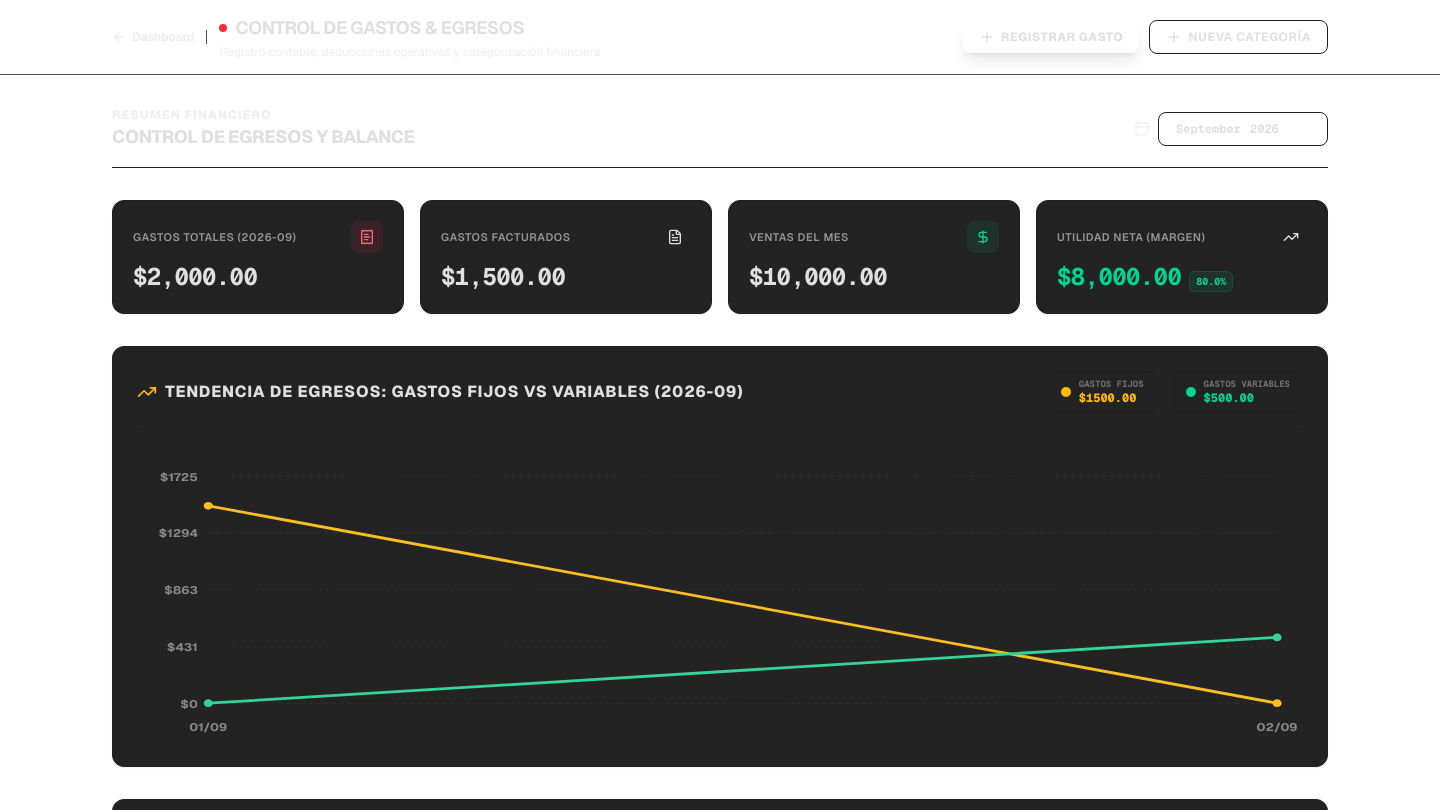
Test case: GastosContent Component › renders full dashboard and opens/closes modals on user clicks
Expected: the text "Control de Gastos & Egresos" is shown, [236,14,524,42]
# Test opening and closing Expense Modal
Click the button "Registrar Gasto". click: click(1051, 37)
box: [963,21,1139,53]
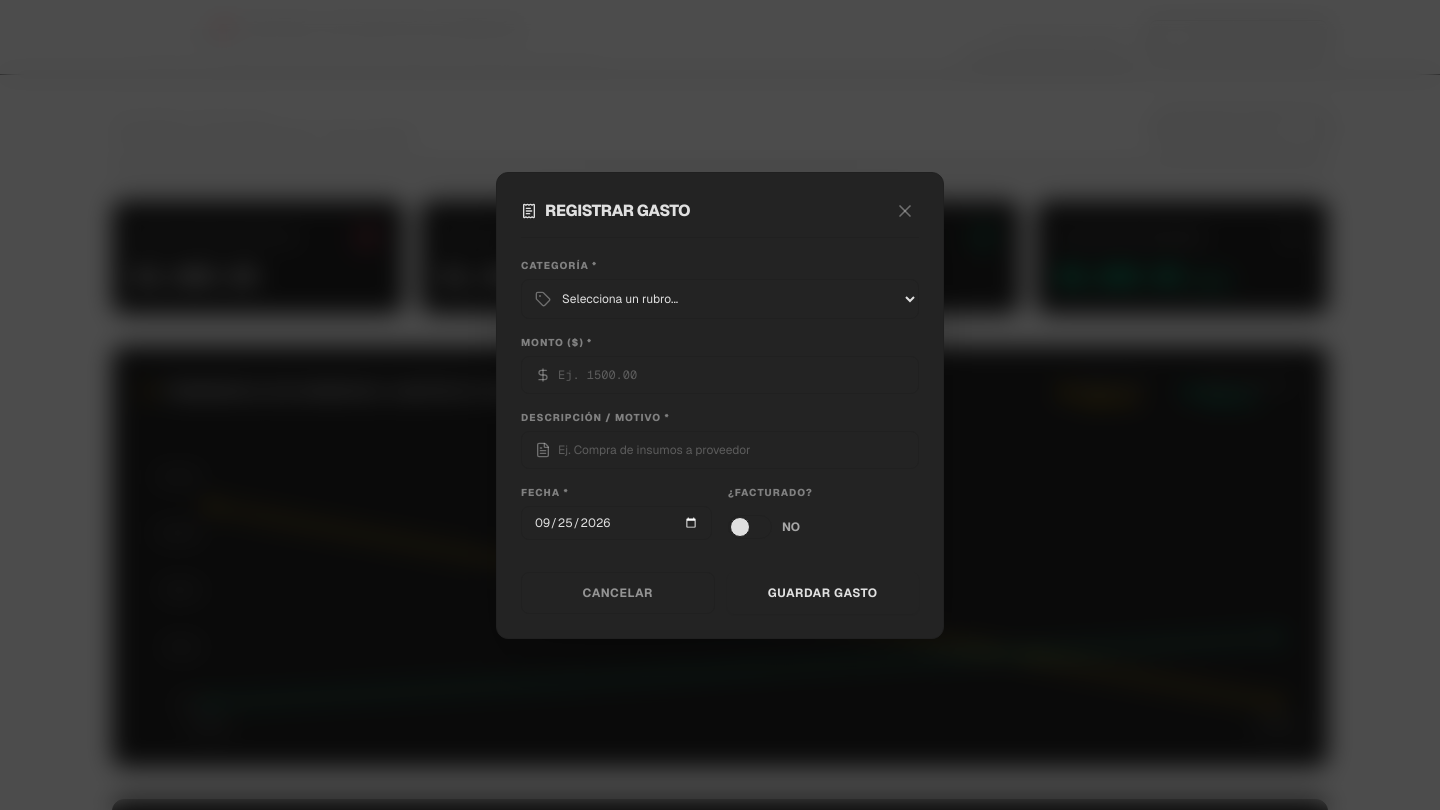
Result: the heading "Registrar Gasto" is shown at [521,198,690,222]
Click the button named "Cerrar modal de gasto". click: click(905, 210)
box: [891,196,919,224]
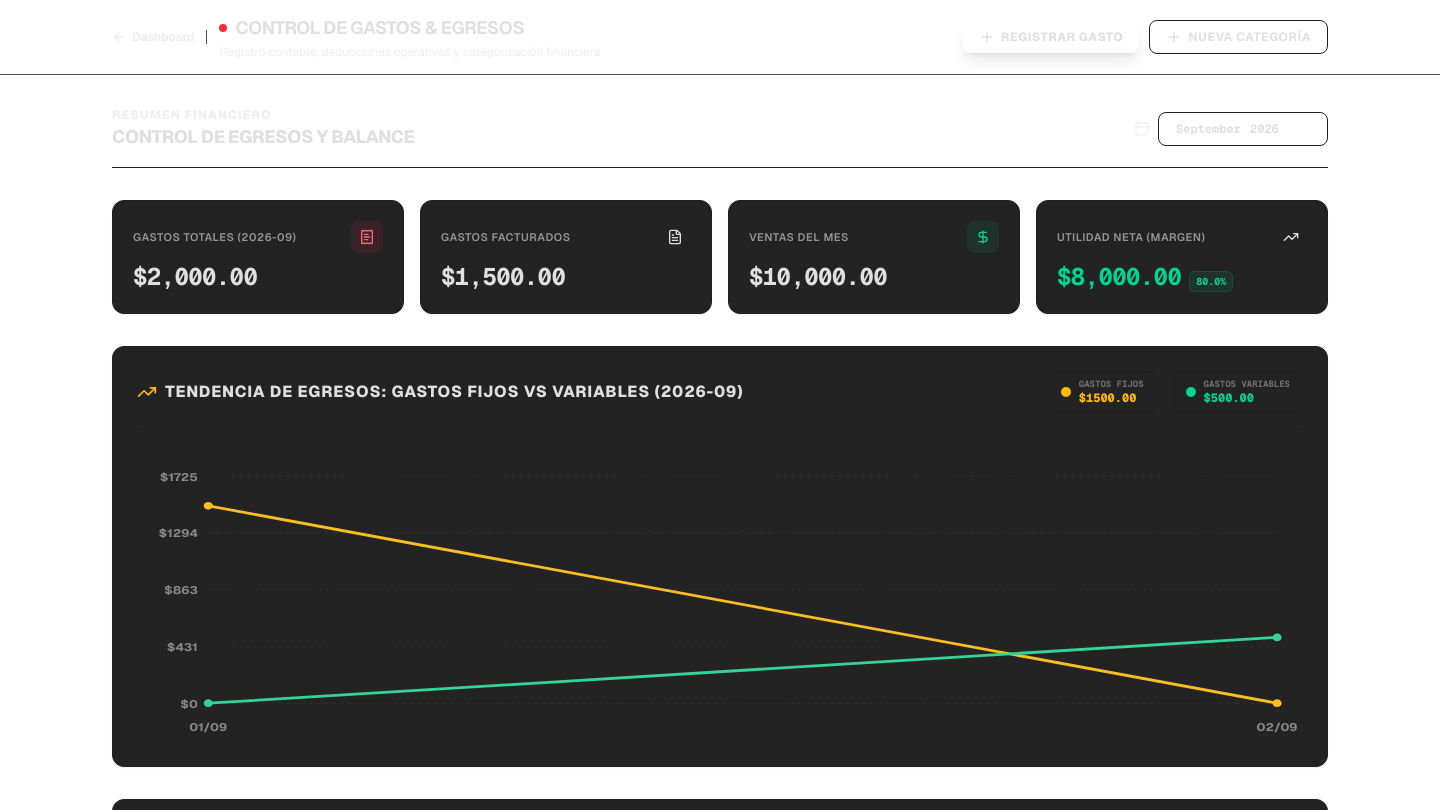
Click the button "Nueva Categoría". click: click(1239, 37)
box: [1149,20,1328,54]
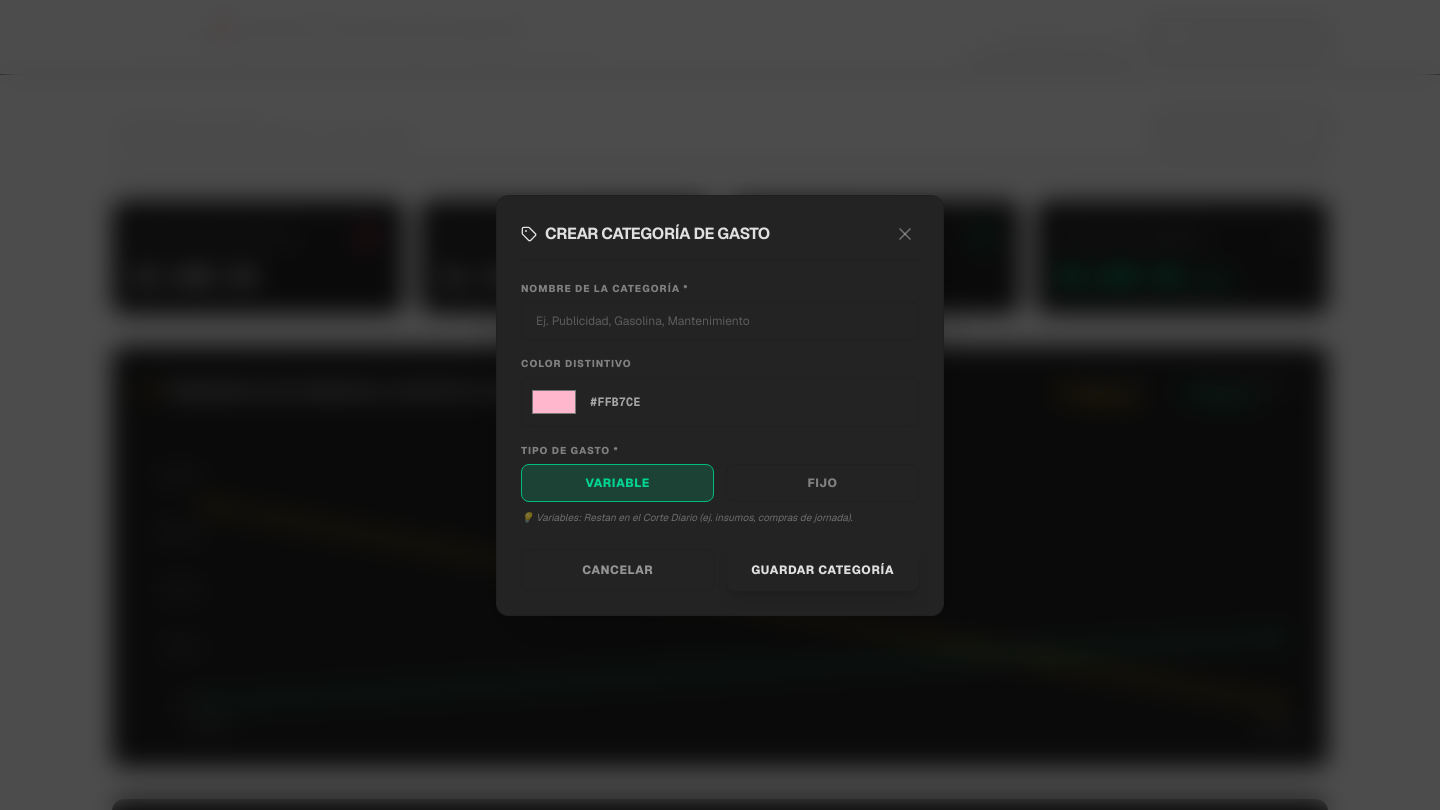
Result: the heading "Crear Categoría de Gasto" is shown at [521,222,770,246]
Click the button named "Cerrar modal de categoría". click: click(905, 234)
box: [891,220,919,248]
(page scrolled)
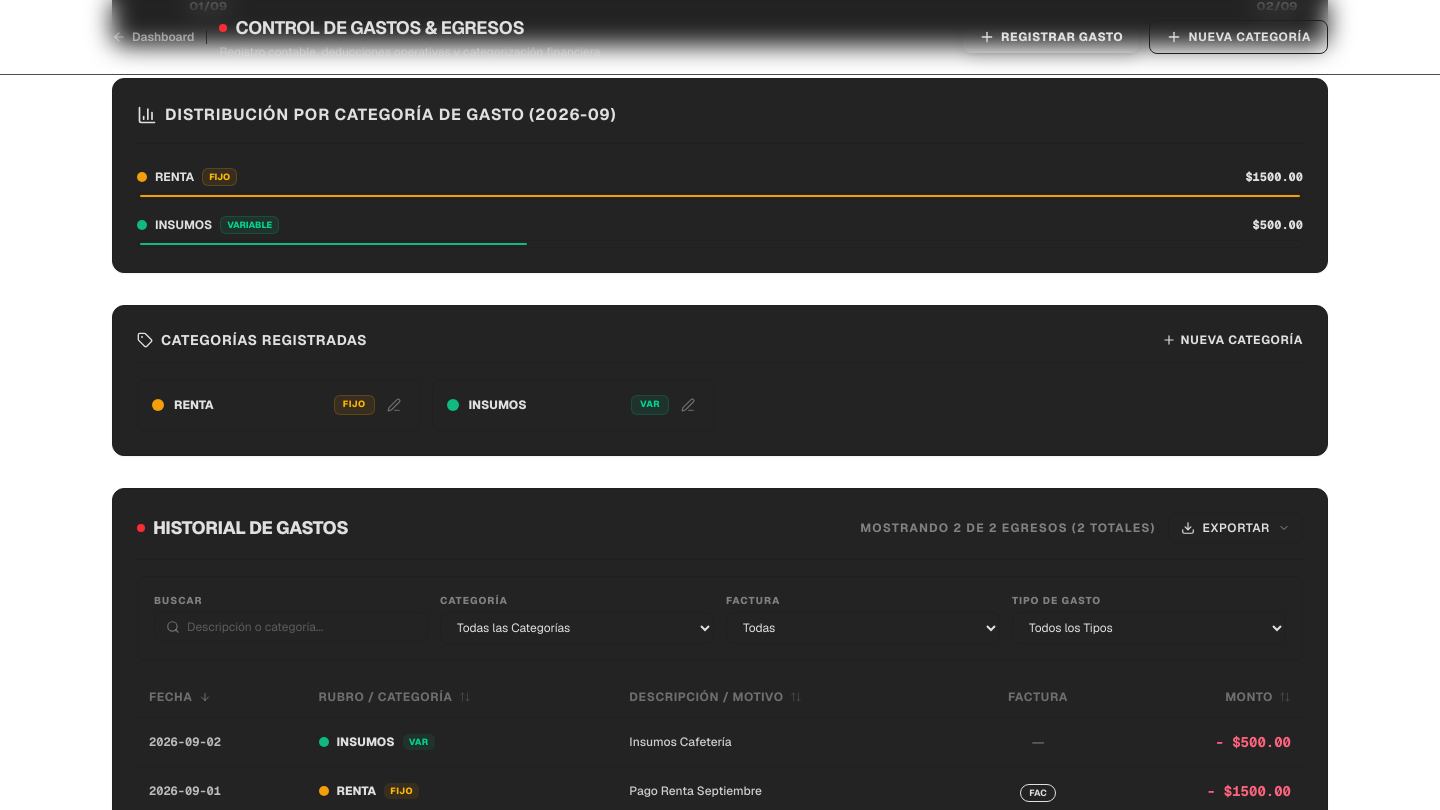
Result: the heading "Crear Categoría de Gasto" is gone
# Test editing category
Click the button named "Editar categoría Renta". click: click(394, 405)
box: [382,394,404,416]
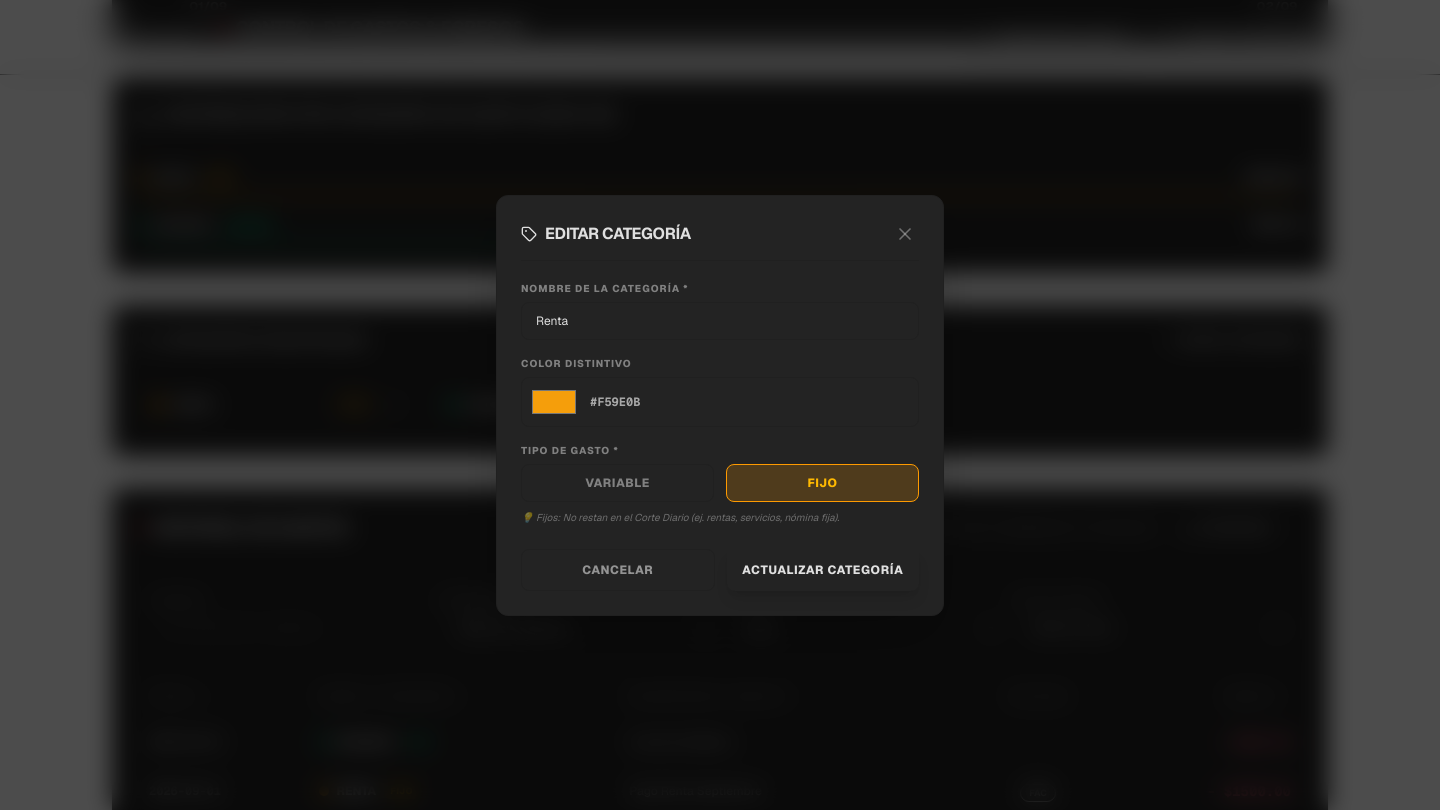
Result: the heading "Editar Categoría" is shown at [521,222,691,246]
Click the button named "Cerrar modal de categoría". click: click(905, 234)
box: [891,220,919,248]
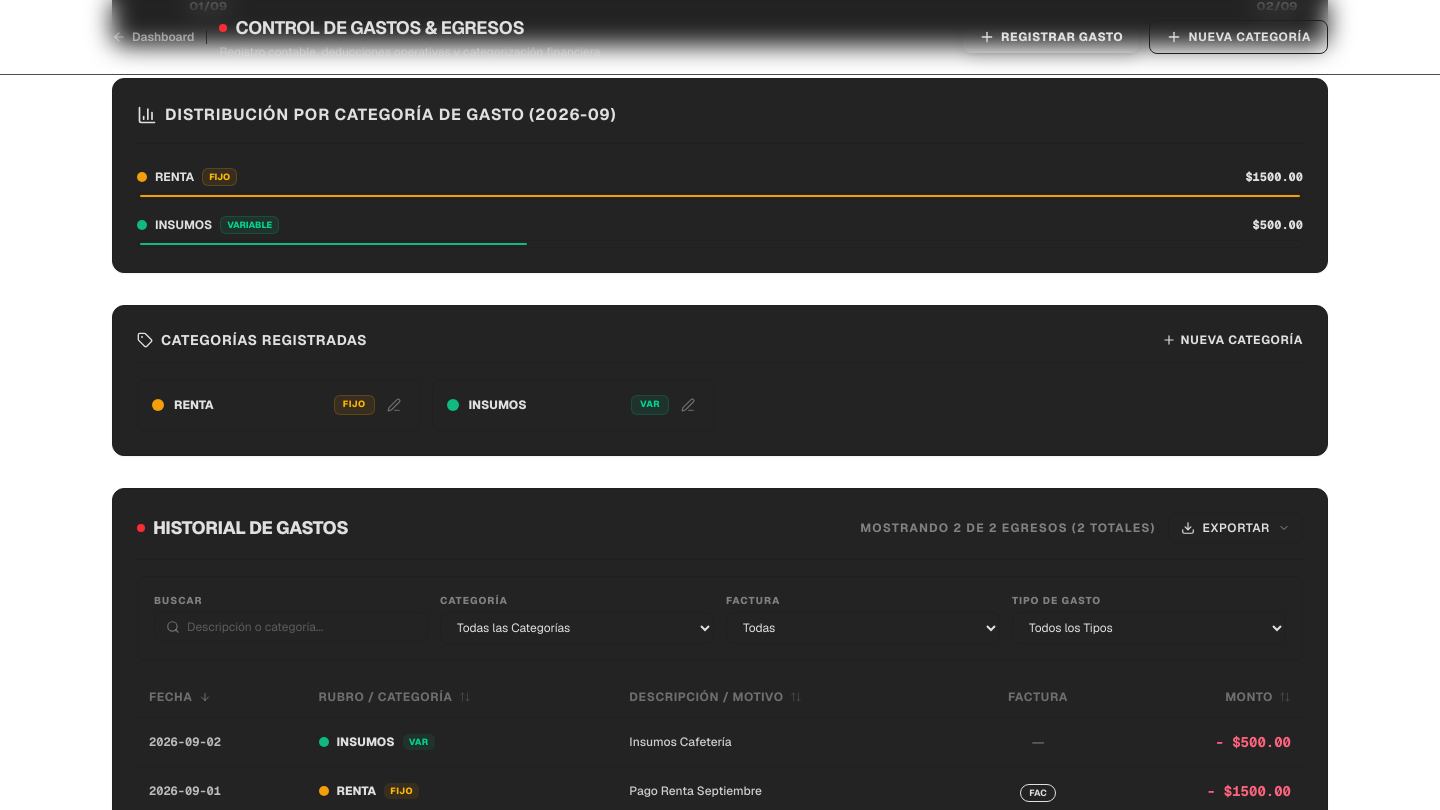
Result: the heading "Editar Categoría" is gone
